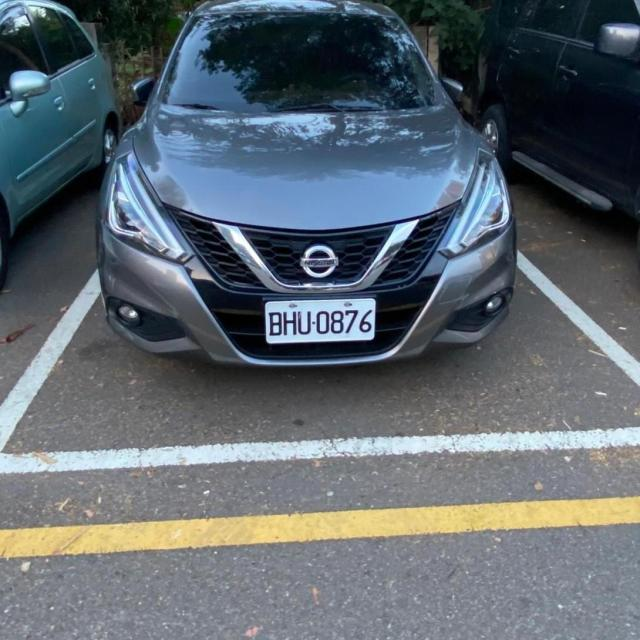W: (264, 297, 374, 344)
